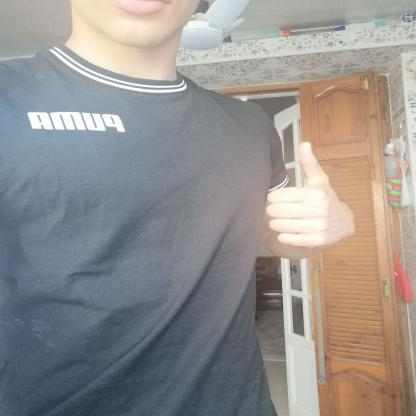ALIF: (252, 122, 366, 258)
